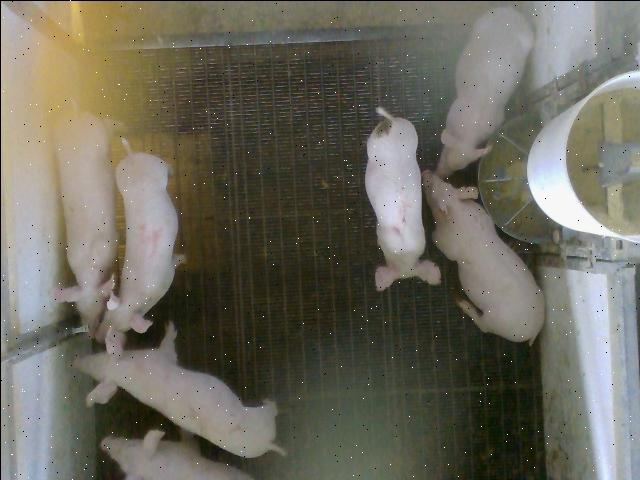pig-4: (95, 138, 184, 340)
pig-5: (364, 106, 440, 290)
